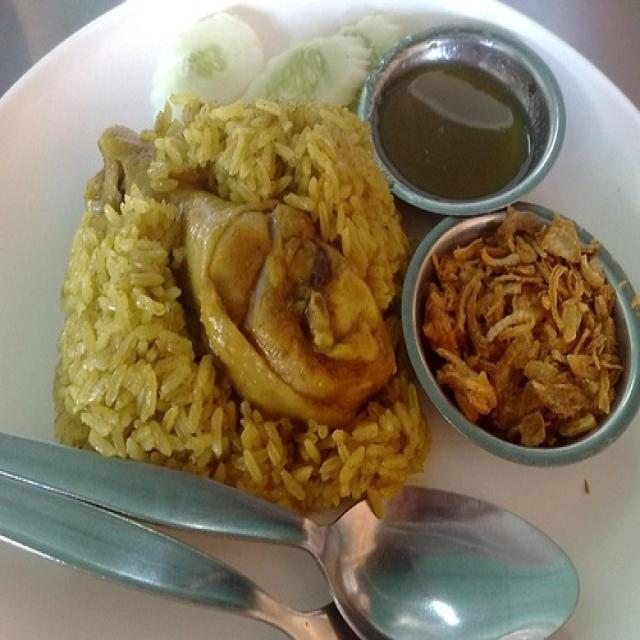米饭主食: (12, 10, 627, 623)
